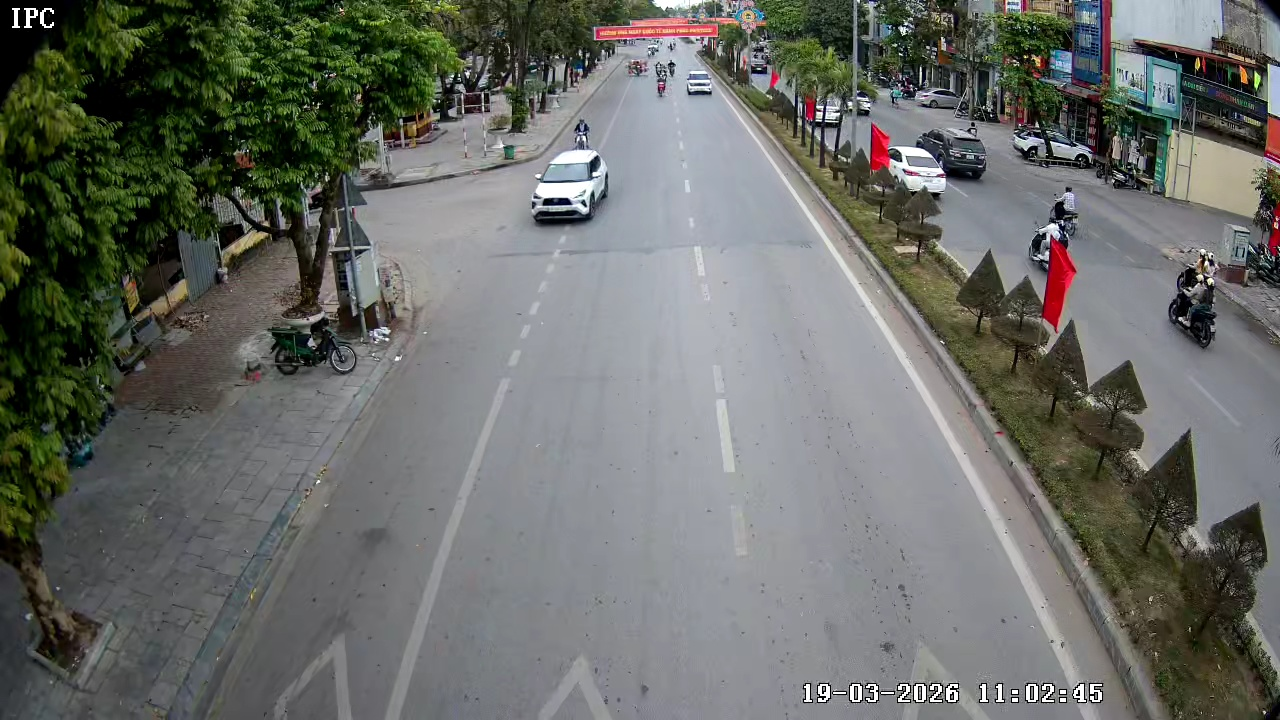car: (531, 146, 609, 224), (914, 125, 987, 179), (683, 68, 717, 96)
motorbike: (258, 301, 371, 388), (1167, 248, 1220, 349), (1026, 185, 1081, 266), (572, 113, 594, 151), (657, 73, 668, 99)
